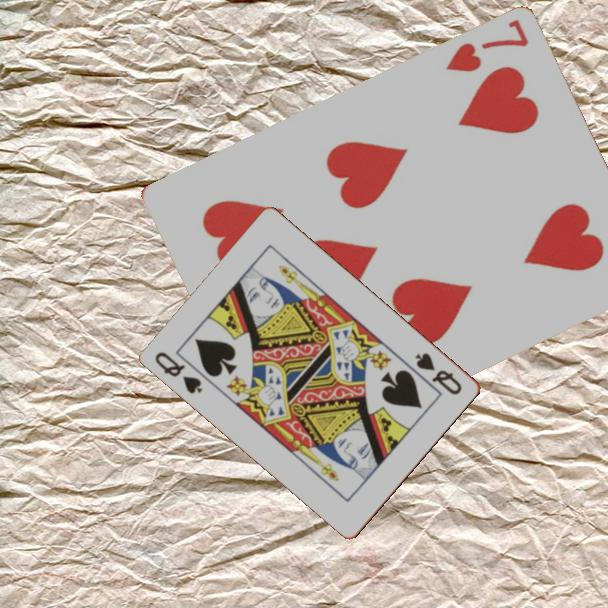h07: (441, 16, 532, 76)
s12: (152, 348, 206, 397), (412, 349, 465, 398)
